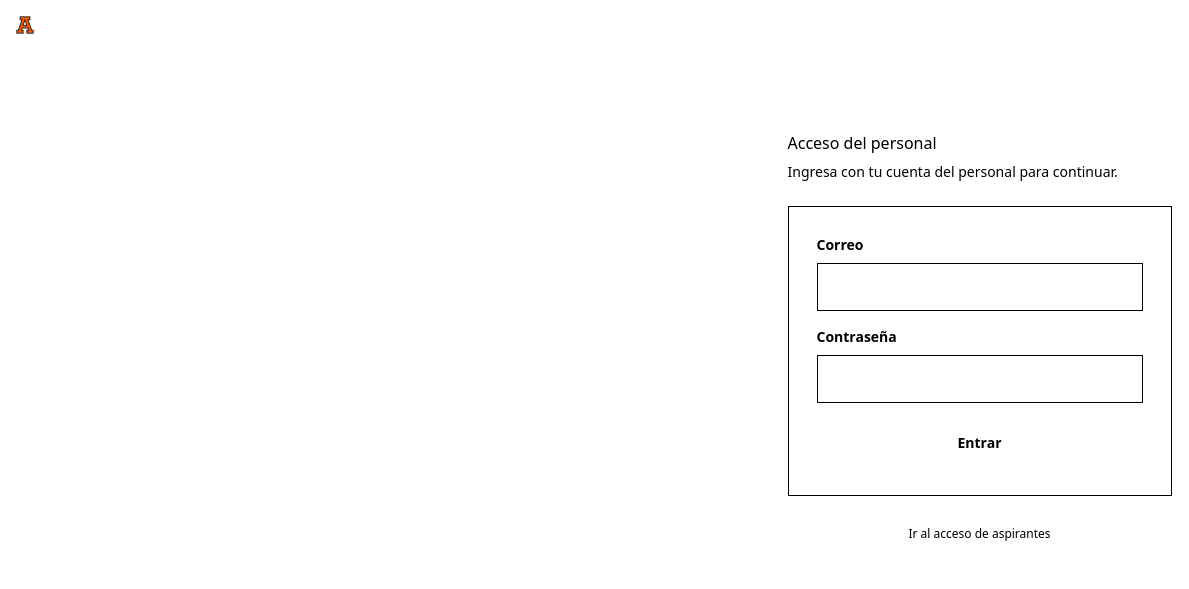
Test: Staff: wrong credentials keep their message
Type "staff@anahuac.mx" into the field labelled "Correo" at (980, 287), box 816,263 -> 1142,311
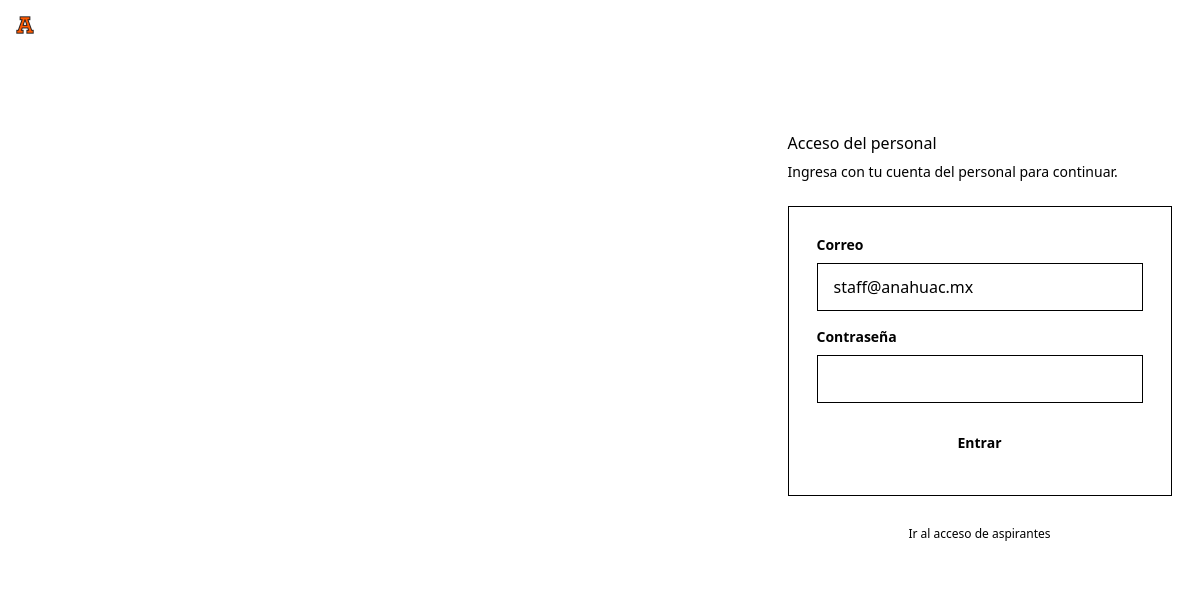
Type "clave-staff-1" into the password field labelled "Contraseña" at (980, 379), box 816,355 -> 1142,403
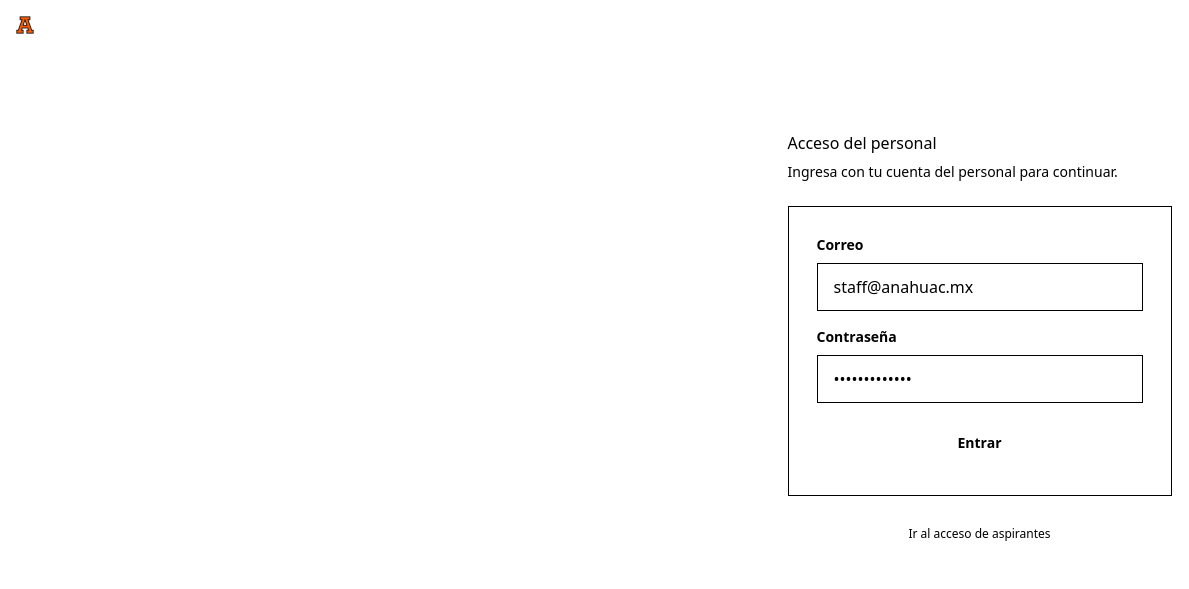
Click the button "Entrar" at (980, 443), box 816,419 -> 1142,467
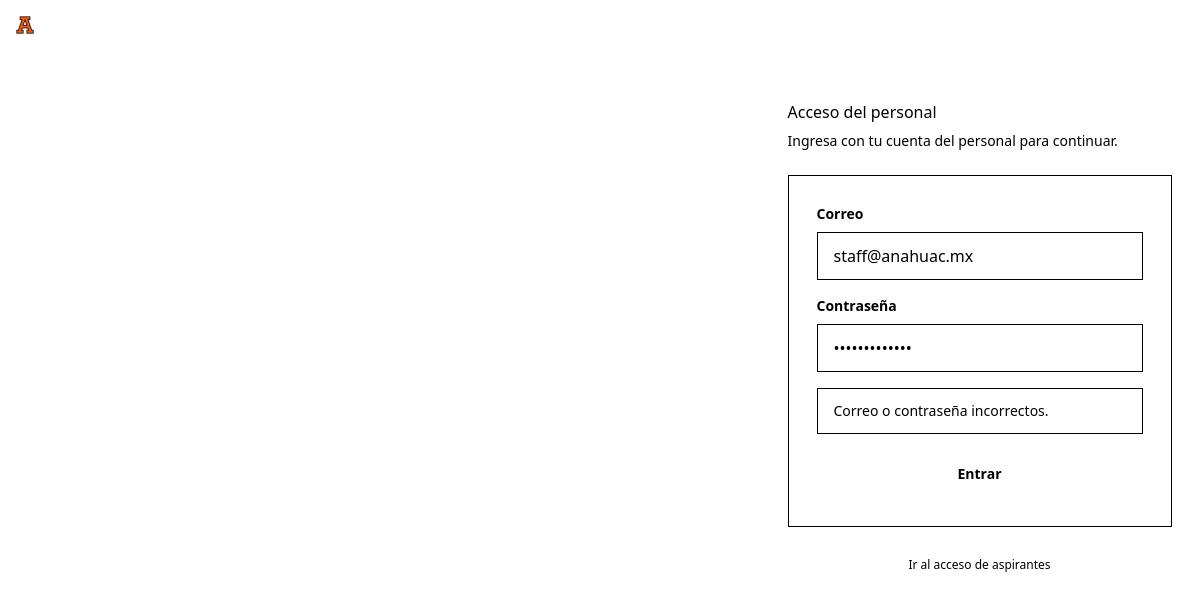
Result: the message reads "Correo o contraseña incorrectos." at 834,401 -> 1049,420
